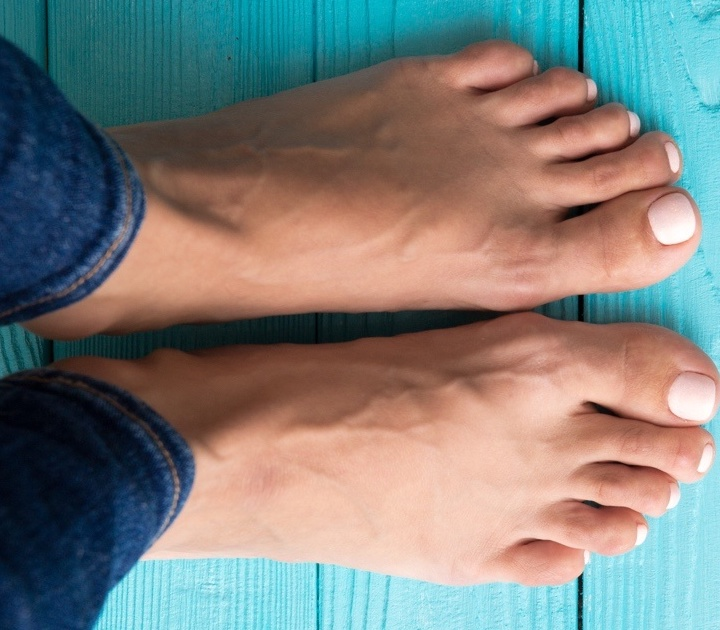Feet: (53, 37, 706, 335), (136, 316, 718, 588)
